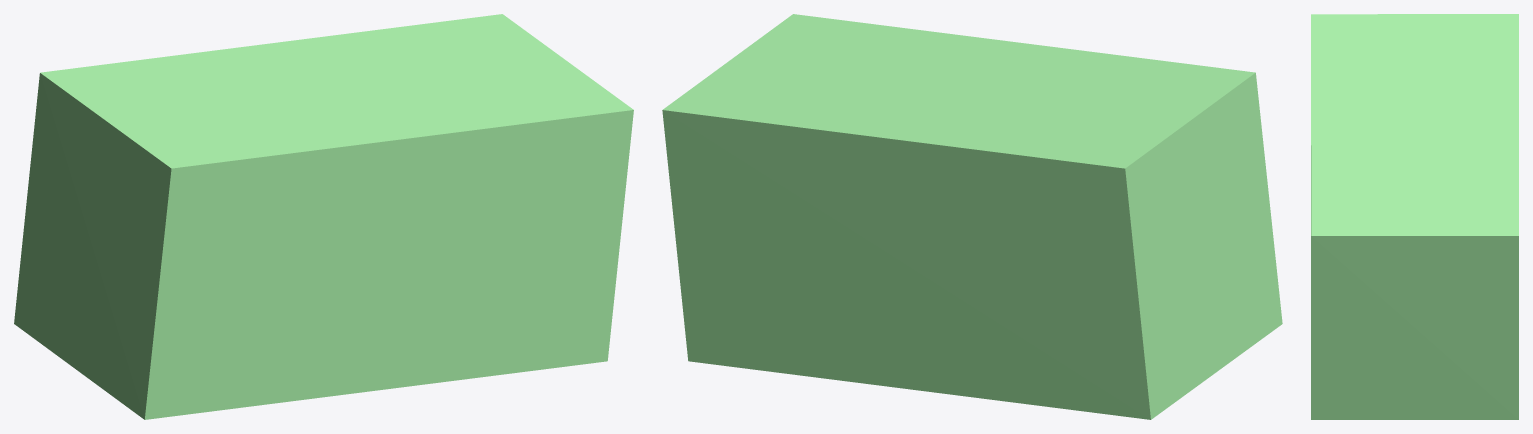
The model's file is UMIRobot_UMIRobot_link_2_convex_coll_41.dae.
3 renders of one model, left to right at view 1: azimuth 30°, elevation 25°; view 2: azimuth 150°, elevation 25°; view 3: azimuth 270°, elevation 25°, orthographic. The views are drawn at different scales.
Visible parts, largest first — view 1: node; view 2: node; view 3: node.
Boxes of the visible parts, x1,y1,x2,y2 form: node: (14,14,633,419); node: (662,14,1282,419); node: (1311,14,1518,419).
Bounding box in the file's own units: 0.0426 × 0.0249 × 0.0198.
